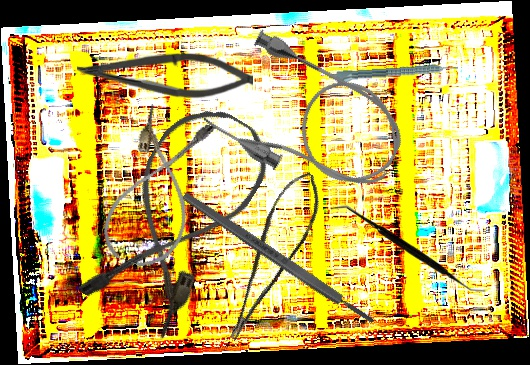Cannula: (71, 90, 284, 343), (197, 24, 420, 216), (95, 103, 221, 276)
Handpiece: (328, 62, 459, 87)
Micro Scissor: (199, 164, 338, 345), (77, 53, 253, 99)
Scalpel Handle: (180, 189, 377, 328)
Spatula Surgical: (331, 205, 486, 294)
